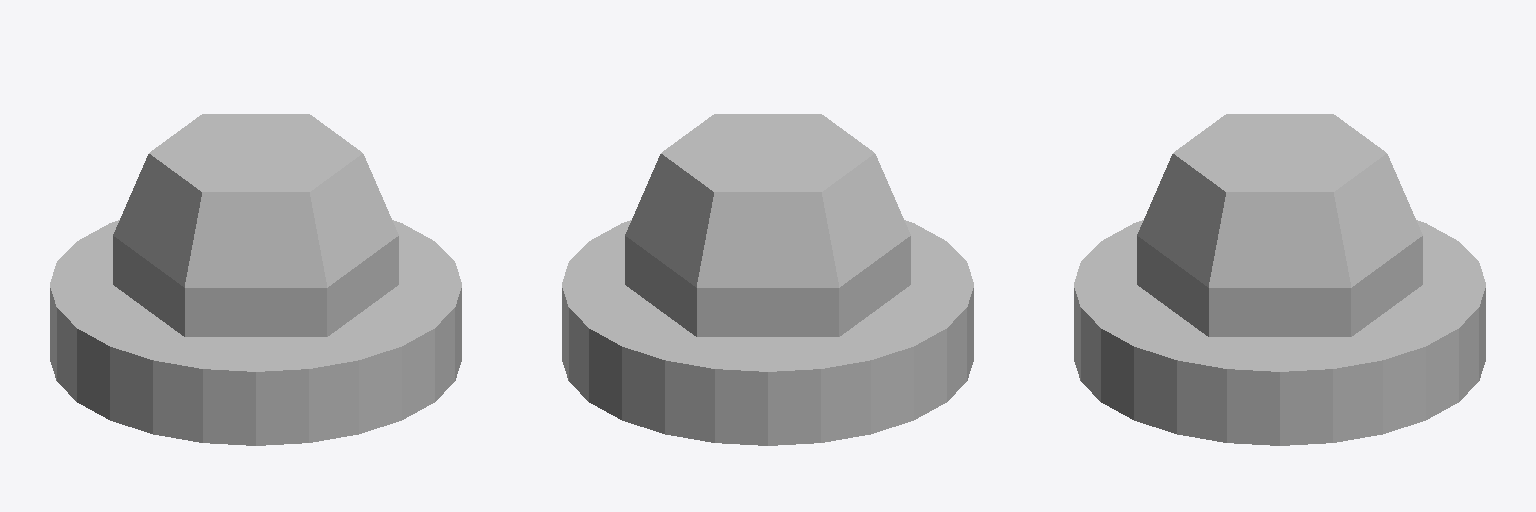
The model's file is gems_topaz_3.obj.
The picture shows the model from 3 angles: view 1: azimuth 30°, elevation 25°; view 2: azimuth 150°, elevation 25°; view 3: azimuth 270°, elevation 25°; orthographic projection.
Visible parts, largest first — view 1: mergedBlocks; view 2: mergedBlocks; view 3: mergedBlocks.
Boxes of the visible parts, x1,y1,x2,y2 form: mergedBlocks: [50, 114, 461, 445]; mergedBlocks: [562, 114, 973, 445]; mergedBlocks: [1074, 114, 1485, 445].
Size of the model in its own units: 1 by 0.55 by 1.